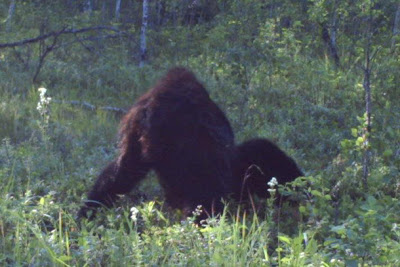bear: (88, 75, 313, 216)
